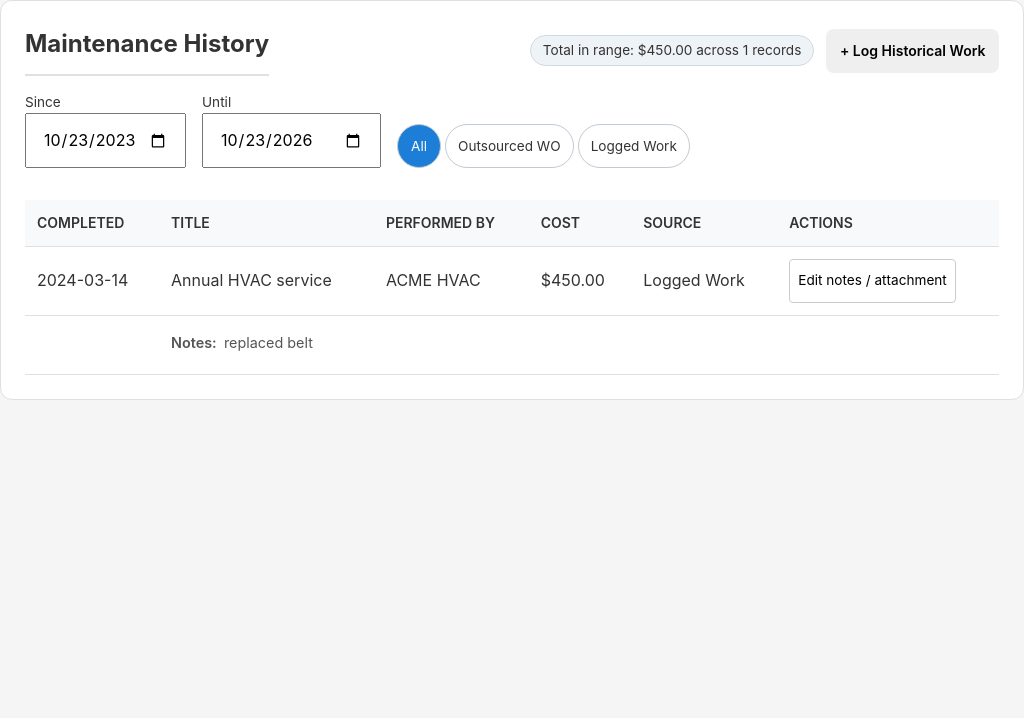
Test case: MaintenanceHistorySection › historical row edit › opens the edit panel pre-filled with the row notes
The image size is (1024, 718).
Click the button with test id "history-row-edit-rec-1".
click(873, 281)  # box top-left (789, 259), bottom-right (956, 303)
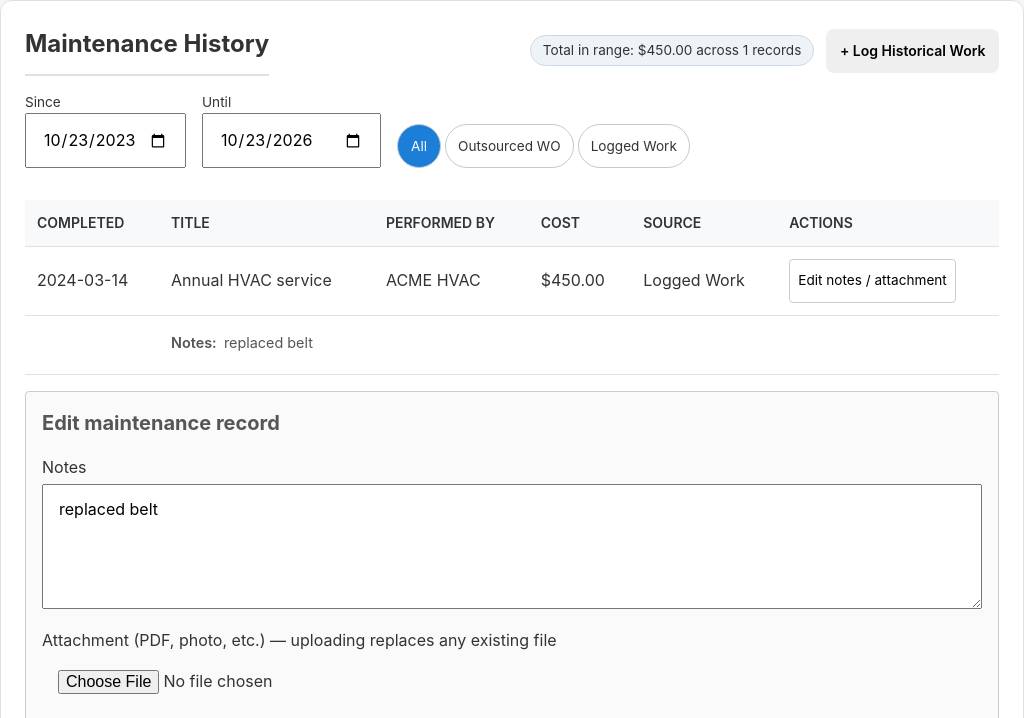
Expected: the text box with test id "history-edit-notes" holds "replaced belt", top-left (42, 484), bottom-right (982, 609)
